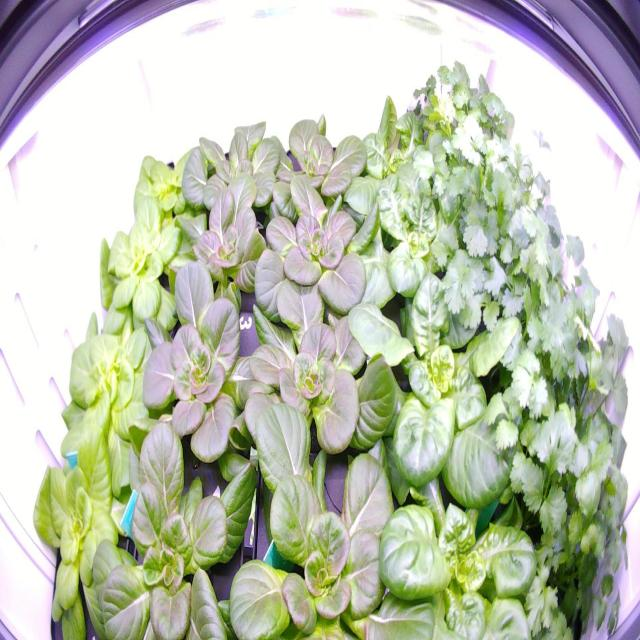young: (218, 390, 428, 638), (348, 255, 534, 529), (222, 254, 421, 501), (350, 421, 544, 637), (81, 416, 257, 638), (20, 388, 161, 638), (138, 254, 284, 483), (45, 272, 179, 500), (238, 168, 397, 346), (352, 150, 493, 319), (92, 182, 206, 350), (163, 165, 280, 327), (335, 85, 455, 230), (255, 103, 379, 236), (175, 114, 285, 239), (122, 137, 220, 267)
